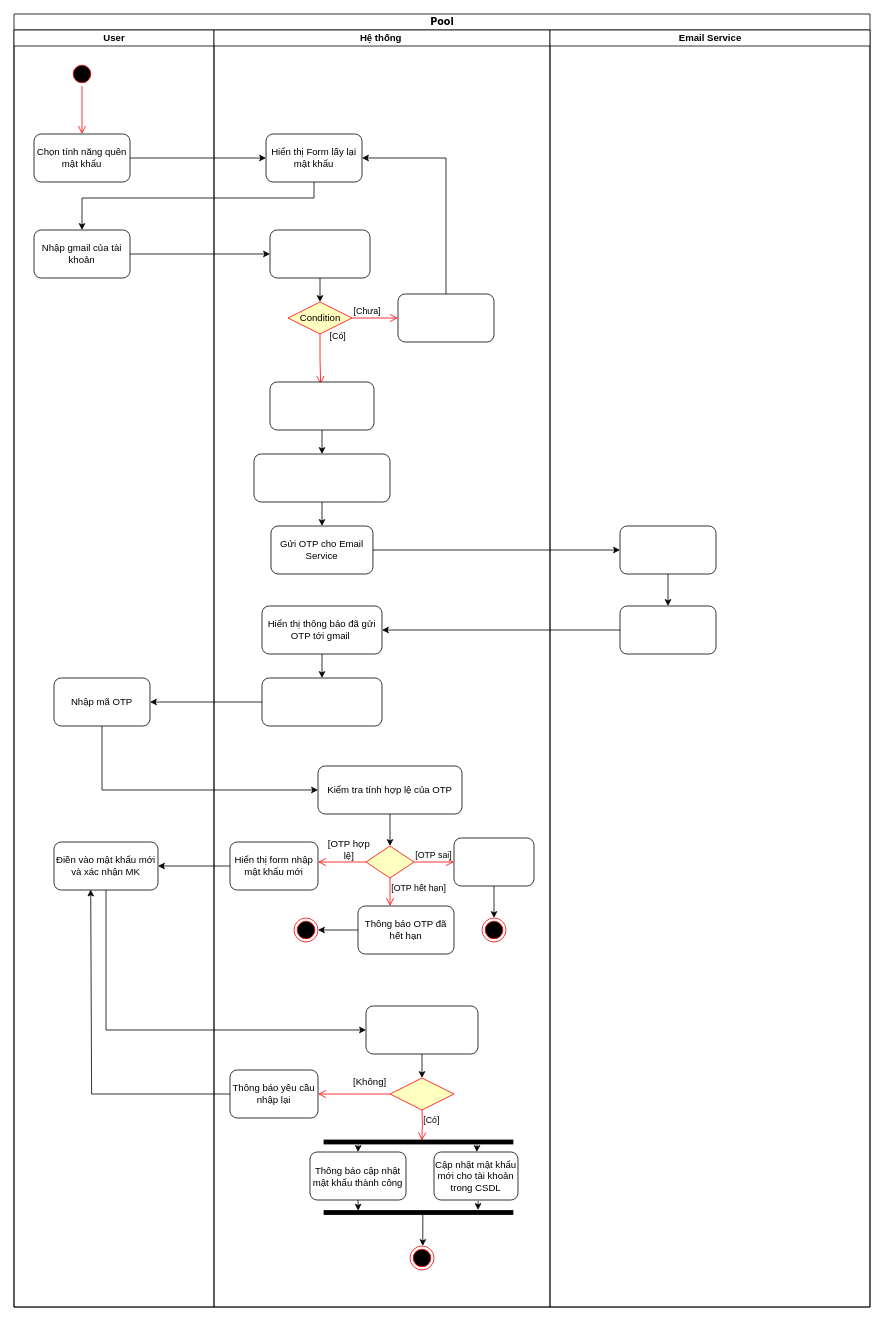
This 884x1322 diagram has some shape labels left out. The centre of each missing label's shape, as x and y in pixels:
Gửi email tới tài khoản gmail: (x=667, y=629)
Hiển thị form nhập mã OTP: (x=321, y=701)
Hiển thị thông báo tài khoản chưa tồn tại: (x=445, y=317)
Kiểm tra trùng khớp: (x=421, y=1029)
Kiểm tra tài khoản đã tồn tại trong CSDL: (x=319, y=253)
Lưu OTP cho tài khoản vào CSDL: (x=321, y=477)
Sinh mã OTP ngẫu nhiên: (x=321, y=405)
Thông báo OTP không chính xác: (x=493, y=861)
Tạo email có chứa mã OTP: (x=667, y=549)
